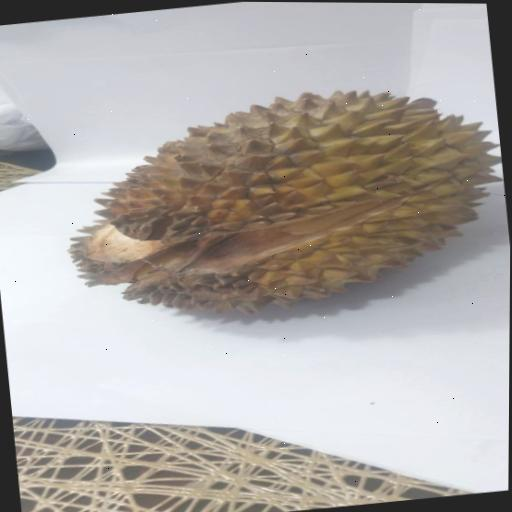mold: (127, 236, 257, 309), (112, 210, 167, 241), (86, 257, 133, 287), (162, 214, 208, 243)
